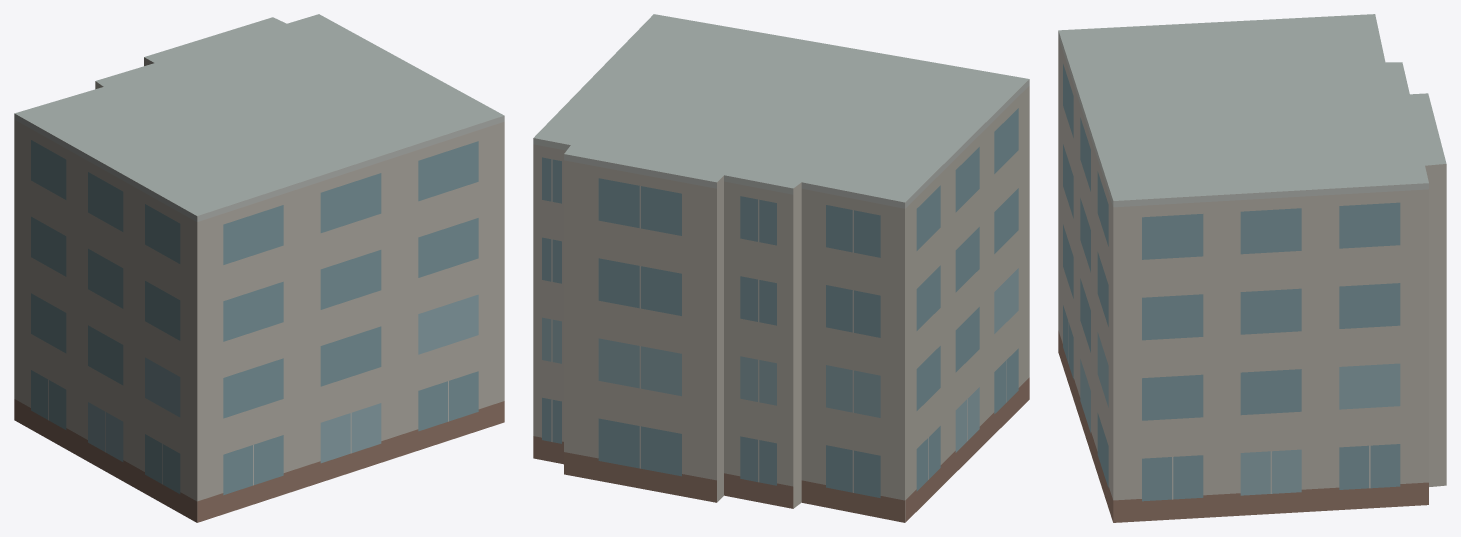
File: survey-upis-32624262.glb
The picture shows the model from 3 angles, left to right: view 1: azimuth 30°, elevation 25°; view 2: azimuth 150°, elevation 25°; view 3: azimuth 270°, elevation 25°; orthographic projection. The views are drawn at different scales.
Visible parts, largest first — view 1: survey-upis-32624262.tmp; view 2: survey-upis-32624262.tmp; view 3: survey-upis-32624262.tmp.
Part boxes in pixels (x1,y1,x2,y2): survey-upis-32624262.tmp: (14, 14, 504, 522); survey-upis-32624262.tmp: (533, 14, 1029, 522); survey-upis-32624262.tmp: (1058, 14, 1446, 522).
Bounding box in the file's own units: 15.47 × 12.4 × 13.57.
